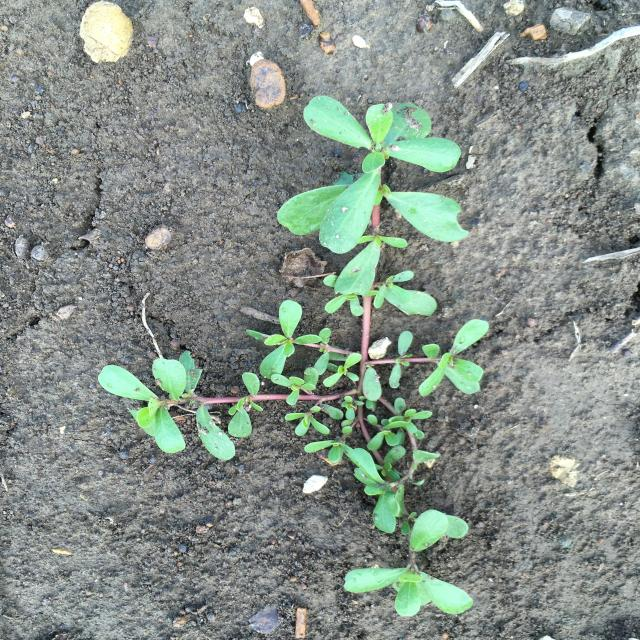Purslane: (98, 96, 489, 616)
